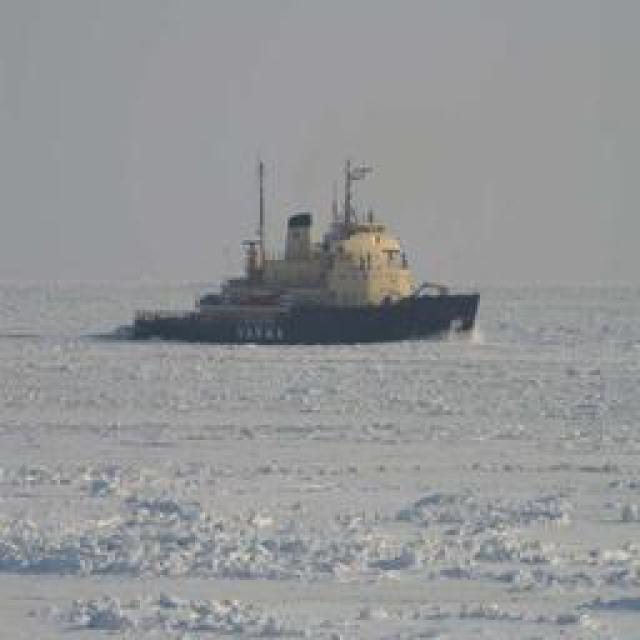Ship: (102, 163, 480, 348)
